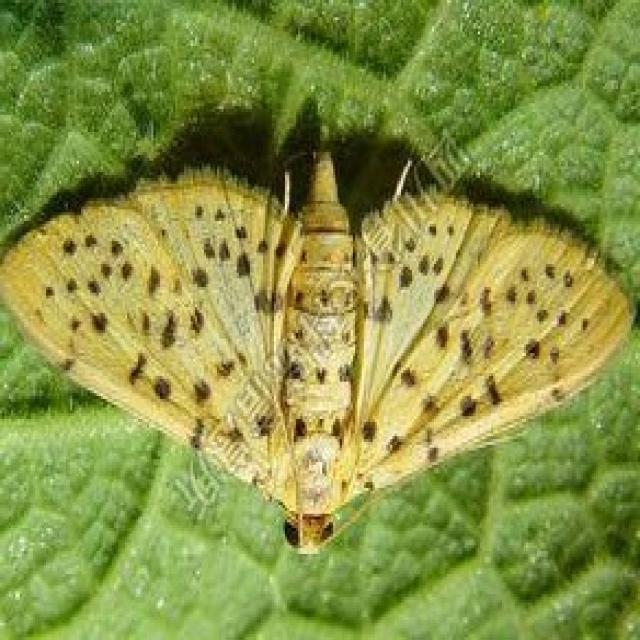peach borer: (4, 143, 635, 559)
